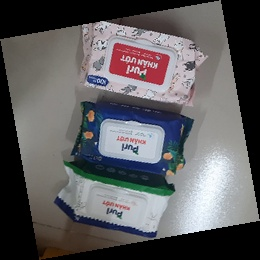Puri Trang: (53, 160, 176, 240)
Puri Xanh: (69, 100, 195, 180)
Puri hong: (74, 20, 210, 108)
